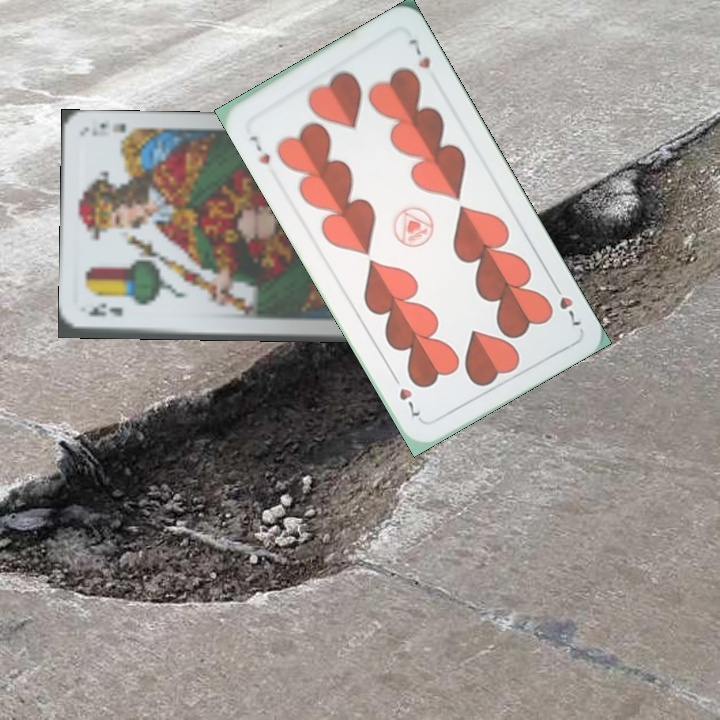EK: (84, 303, 125, 319)
H7: (547, 277, 585, 331), (245, 131, 273, 167)
